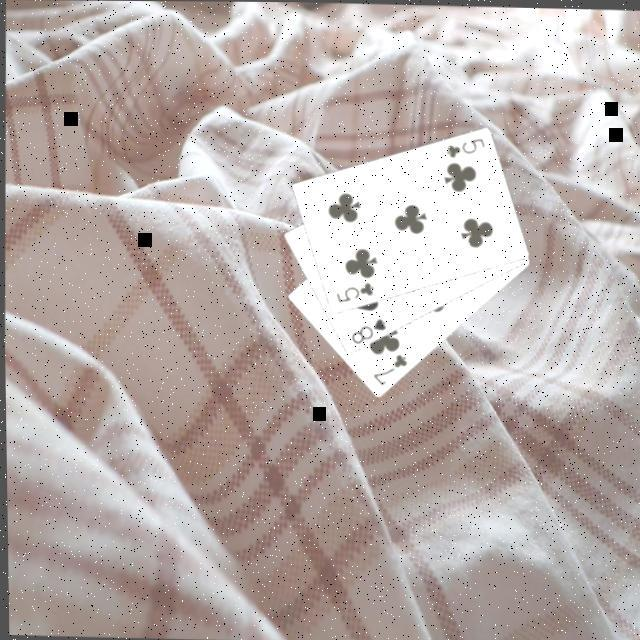5C: (330, 276, 374, 305), (440, 132, 485, 159)
7C: (367, 348, 408, 388)
8S: (345, 312, 388, 346)
